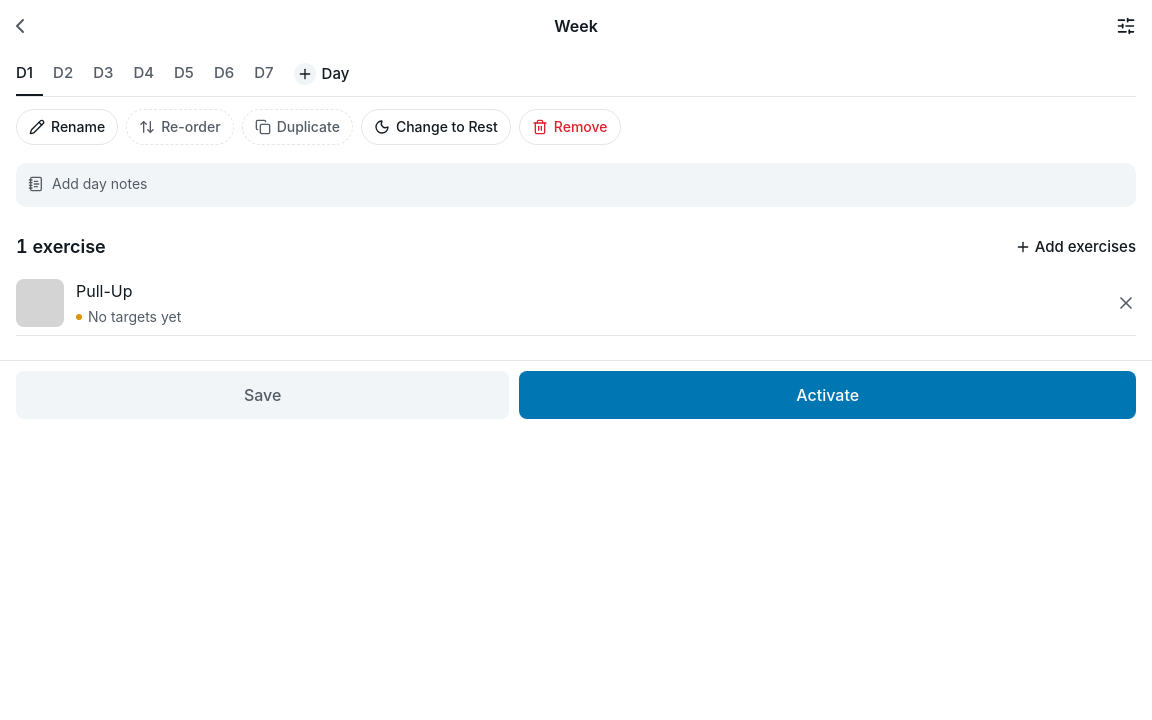
ProgramEditorPage - settings drawer › reads "Number of weeks" for a 7-day draft
Click the button named "Program settings" at {"x": 1114, "y": 26}, box [1092, 4, 1136, 48]
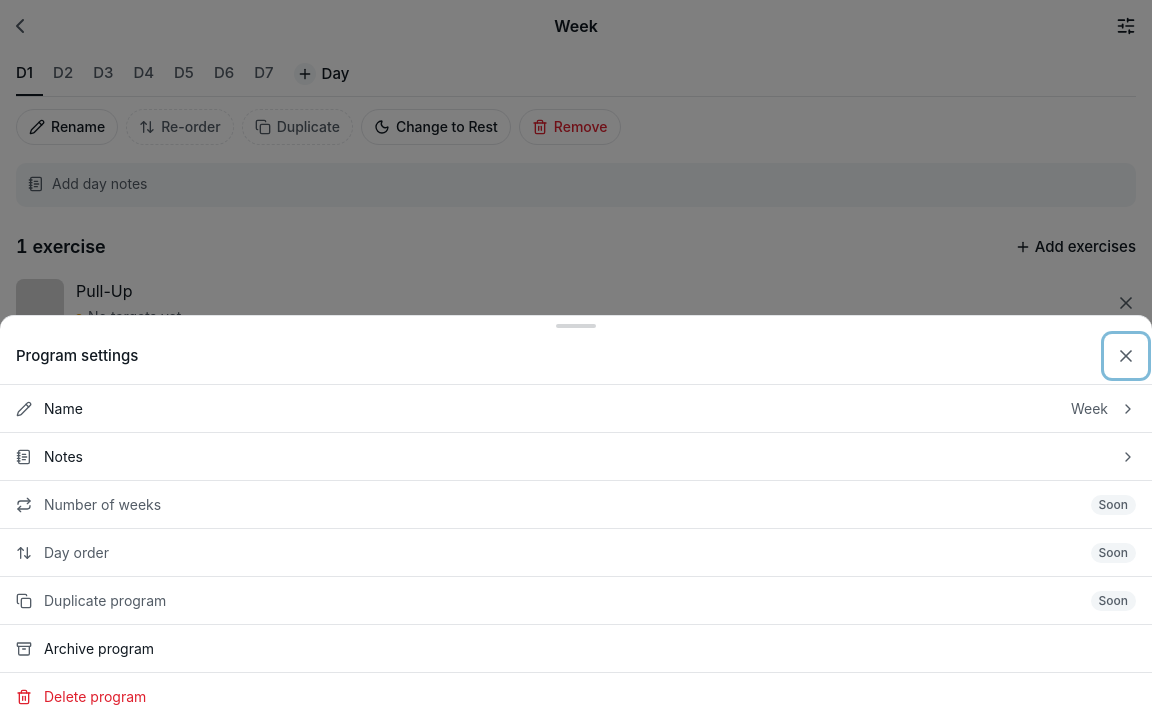
Now the text "Number of weeks" is shown, box [44, 496, 161, 512]
